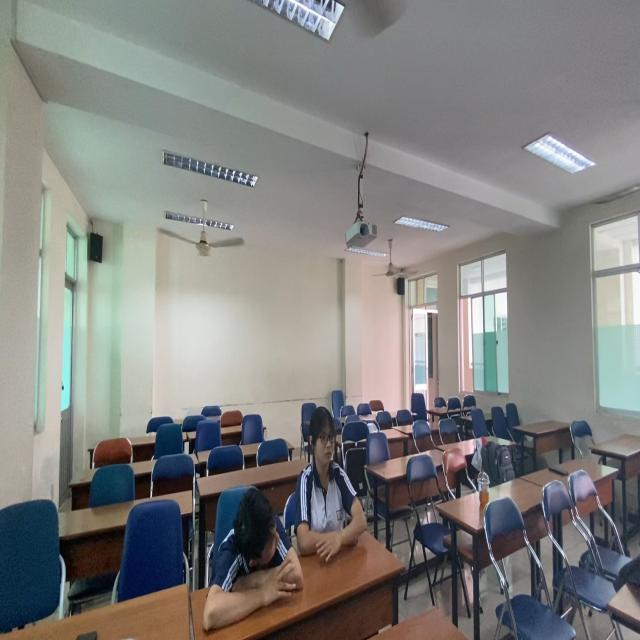sleep: (207, 476, 305, 640)
